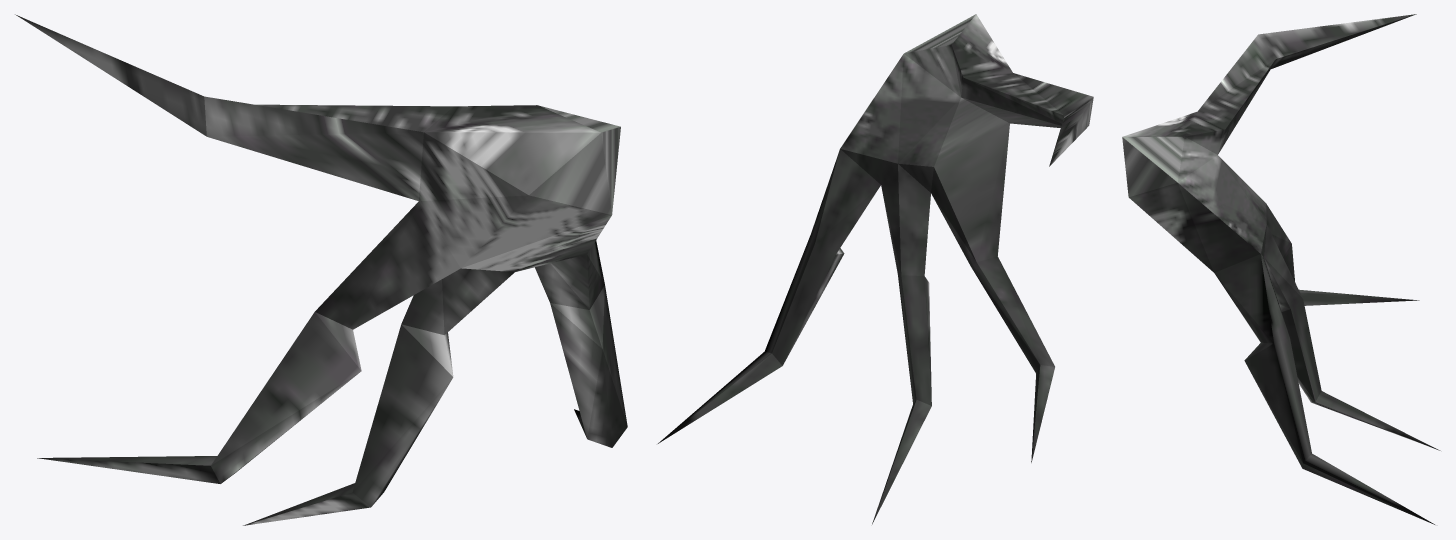
File: tx_esp_diyumozhua_hit.obj
3 renders of one model, left to right at view 1: azimuth 30°, elevation 25°; view 2: azimuth 150°, elevation 25°; view 3: azimuth 270°, elevation 25°, orthographic. The views are drawn at different scales.
Parts seen in each view (by area): view 1: molixishou012#3; view 2: molixishou012#3; view 3: molixishou012#3.
Boxes of the visible parts, x1,y1,x2,y2 form: molixishou012#3: (15,14,627,525); molixishou012#3: (658,14,1093,524); molixishou012#3: (1122,14,1440,524).
Bounding box in the file's own units: 90.19 × 87.83 × 70.13.
1 material, 1 textured.
